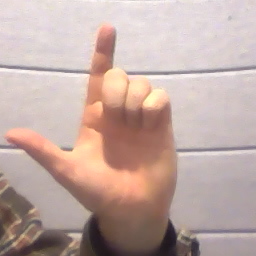L: (4, 18, 180, 215)
